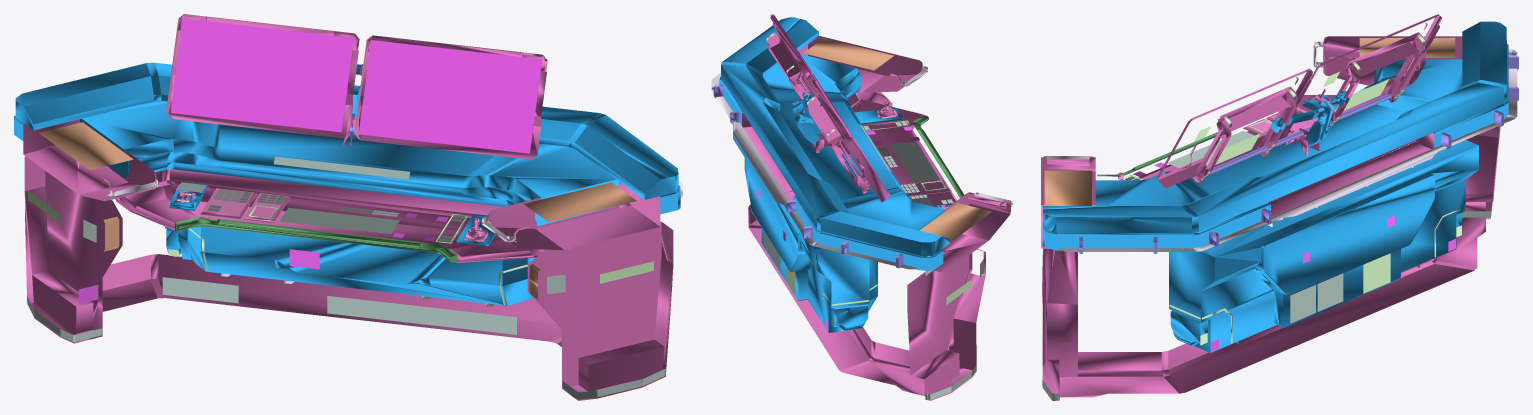
File: console_desk_2_corner_no-screen_a.glb
The picture shows the model from 3 angles, left to right: view 1: azimuth 30°, elevation 25°; view 2: azimuth 150°, elevation 25°; view 3: azimuth 270°, elevation 25°; orthographic projection. The views are drawn at different scales.
Size of the model in its own units: 2.47 by 1.49 by 2.47.
